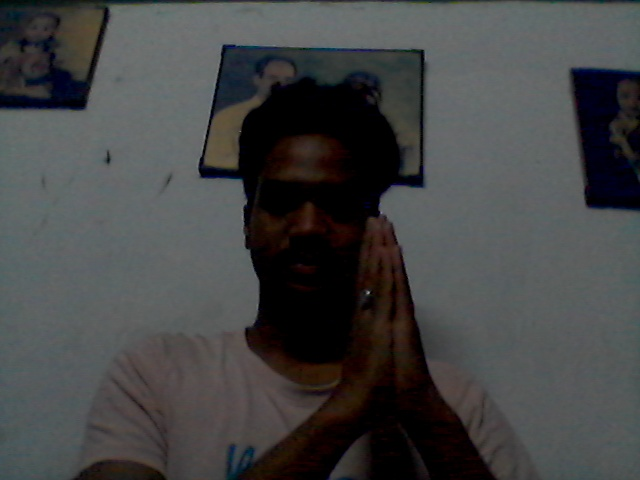Namasthe: (327, 213, 441, 443)
